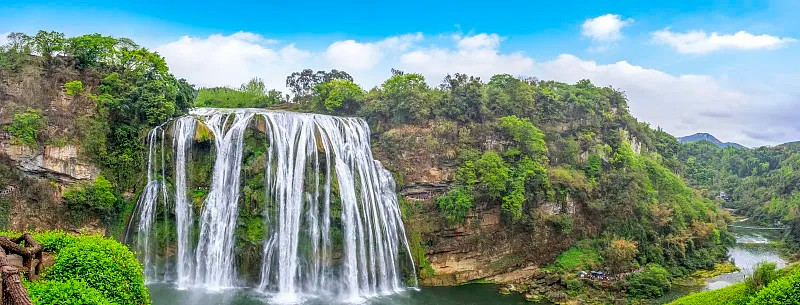Huangguoshu: (140, 108, 419, 297)
